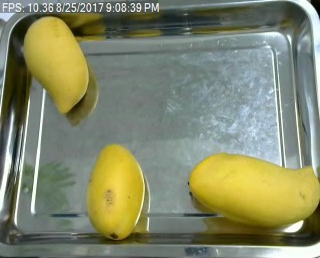Mango: (186, 145, 320, 228), (19, 9, 93, 118), (86, 139, 148, 241)
